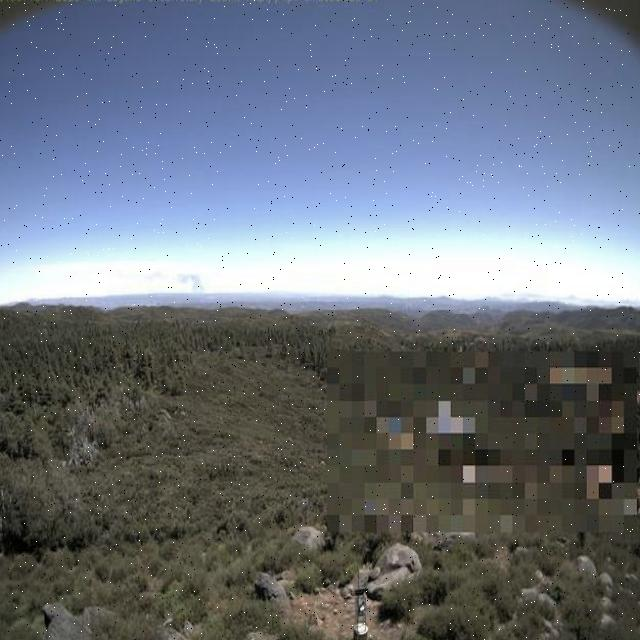smoke: (175, 271, 205, 294)
